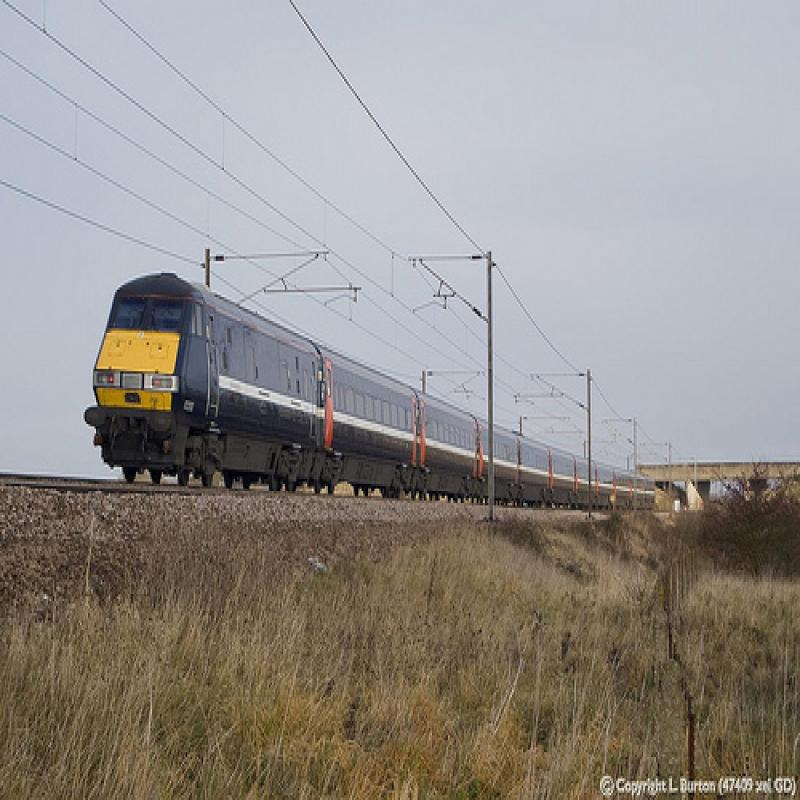train: (88, 272, 664, 526)
